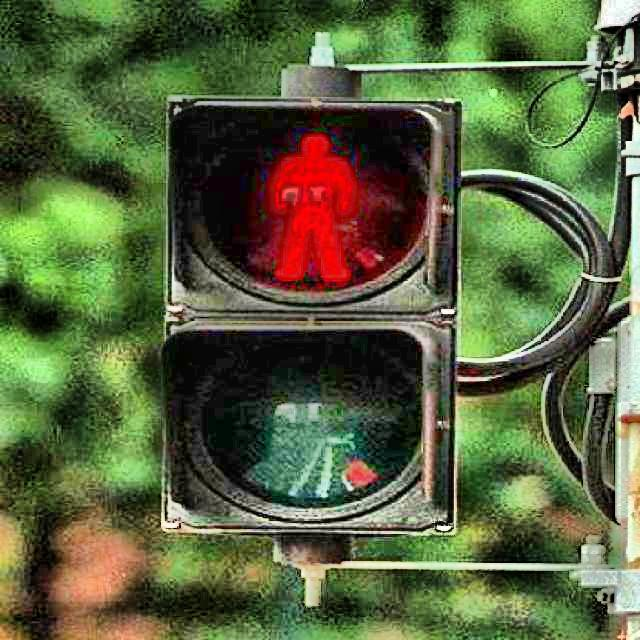semaforo pedestre: (130, 55, 498, 607)
